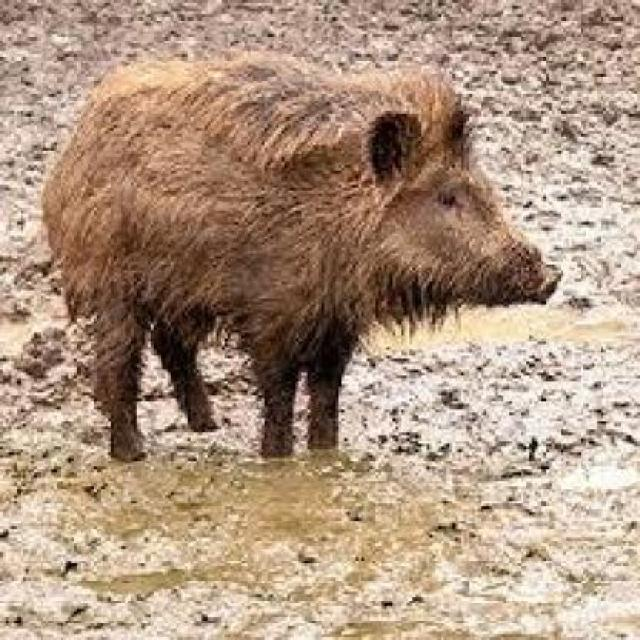wildboar: (40, 49, 566, 469)
